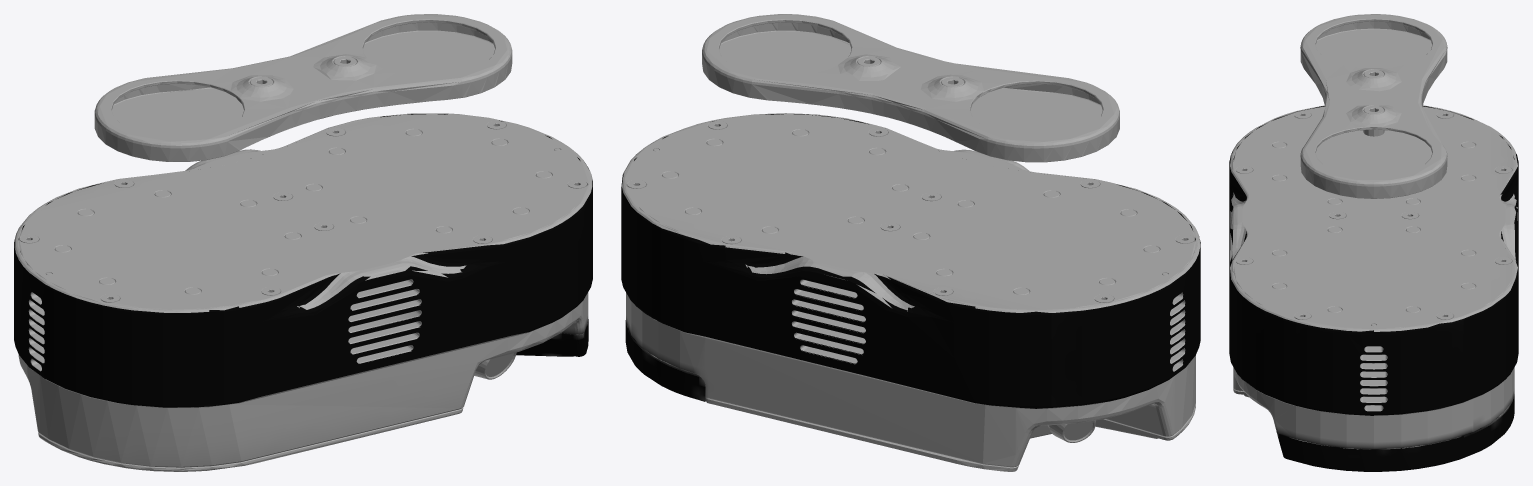
The model's file is hip-pitch.obj.
3 views of the same model, side by side, from view 1: azimuth 30°, elevation 25°; view 2: azimuth 150°, elevation 25°; view 3: azimuth 270°, elevation 25° (orthographic). The views are drawn at different scales.
Visible parts, largest first — view 1: hip-pitch; view 2: hip-pitch; view 3: hip-pitch.
Part boxes in pixels (box(x1,y1,x2,y2)): hip-pitch: box(14, 14, 592, 471); hip-pitch: box(621, 14, 1200, 471); hip-pitch: box(1229, 14, 1518, 471).
Bounding box in the file's own units: 0.2558 × 0.145 × 0.1358.
1 material, 1 textured.
